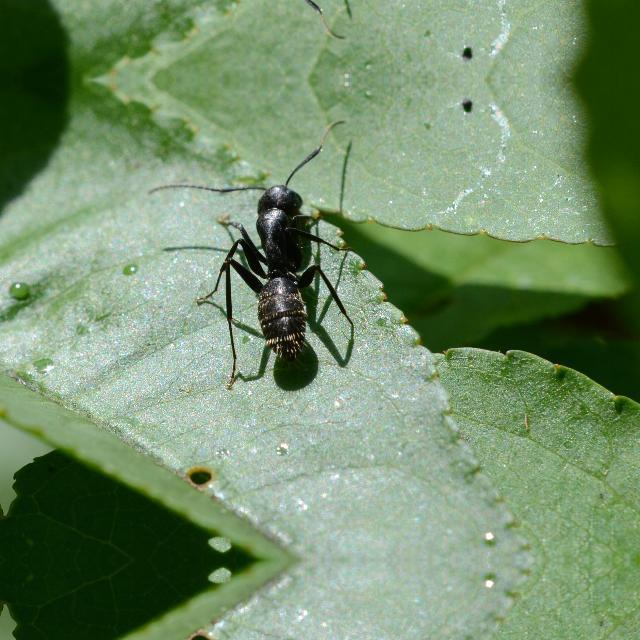Camponotus: (217, 145, 331, 359)
